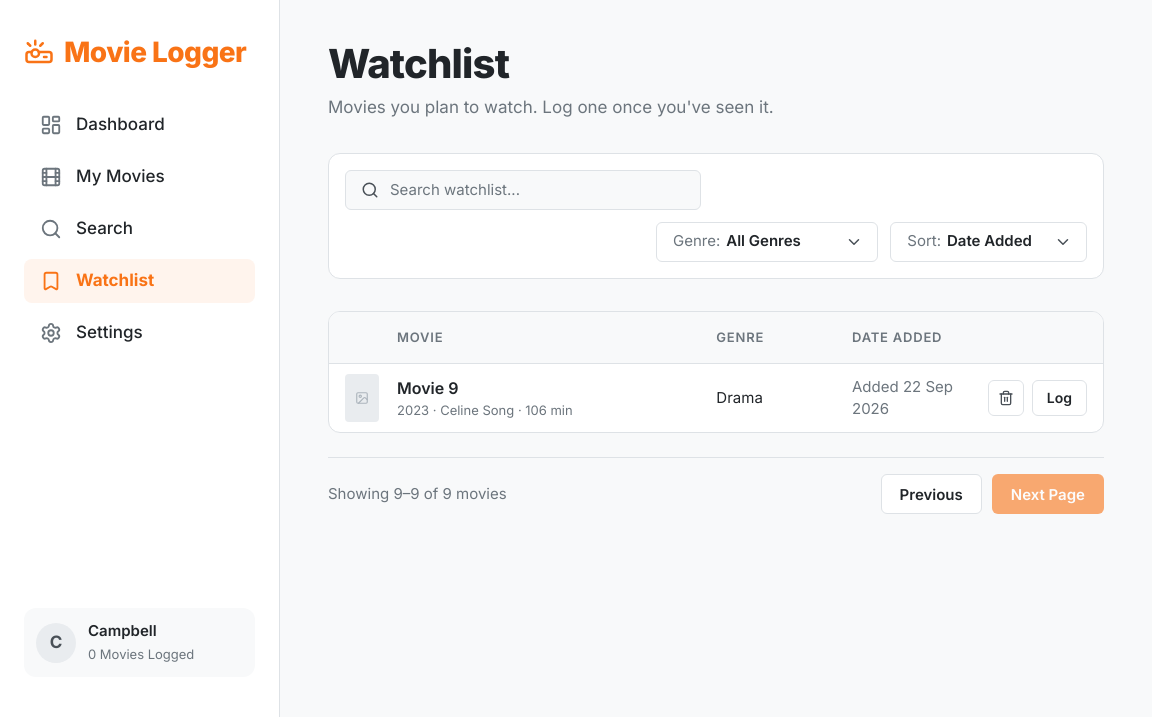
it: Watchlist page › steps back a page when the last item on the last page is removed
Click the button named "Remove Movie 9 from watchlist" at (1006, 398), box [988,380,1024,416]
(page scrolled)
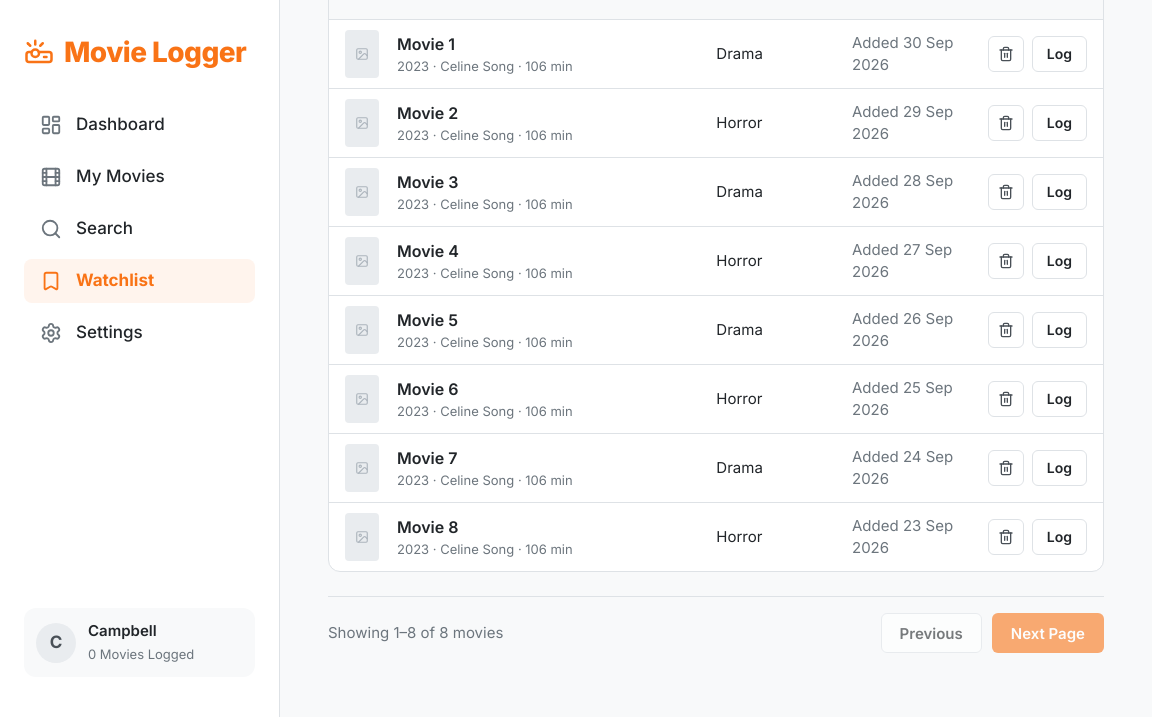
Result: the text "Showing 1–8 of 8 movies" is shown at [328,622,503,644]
